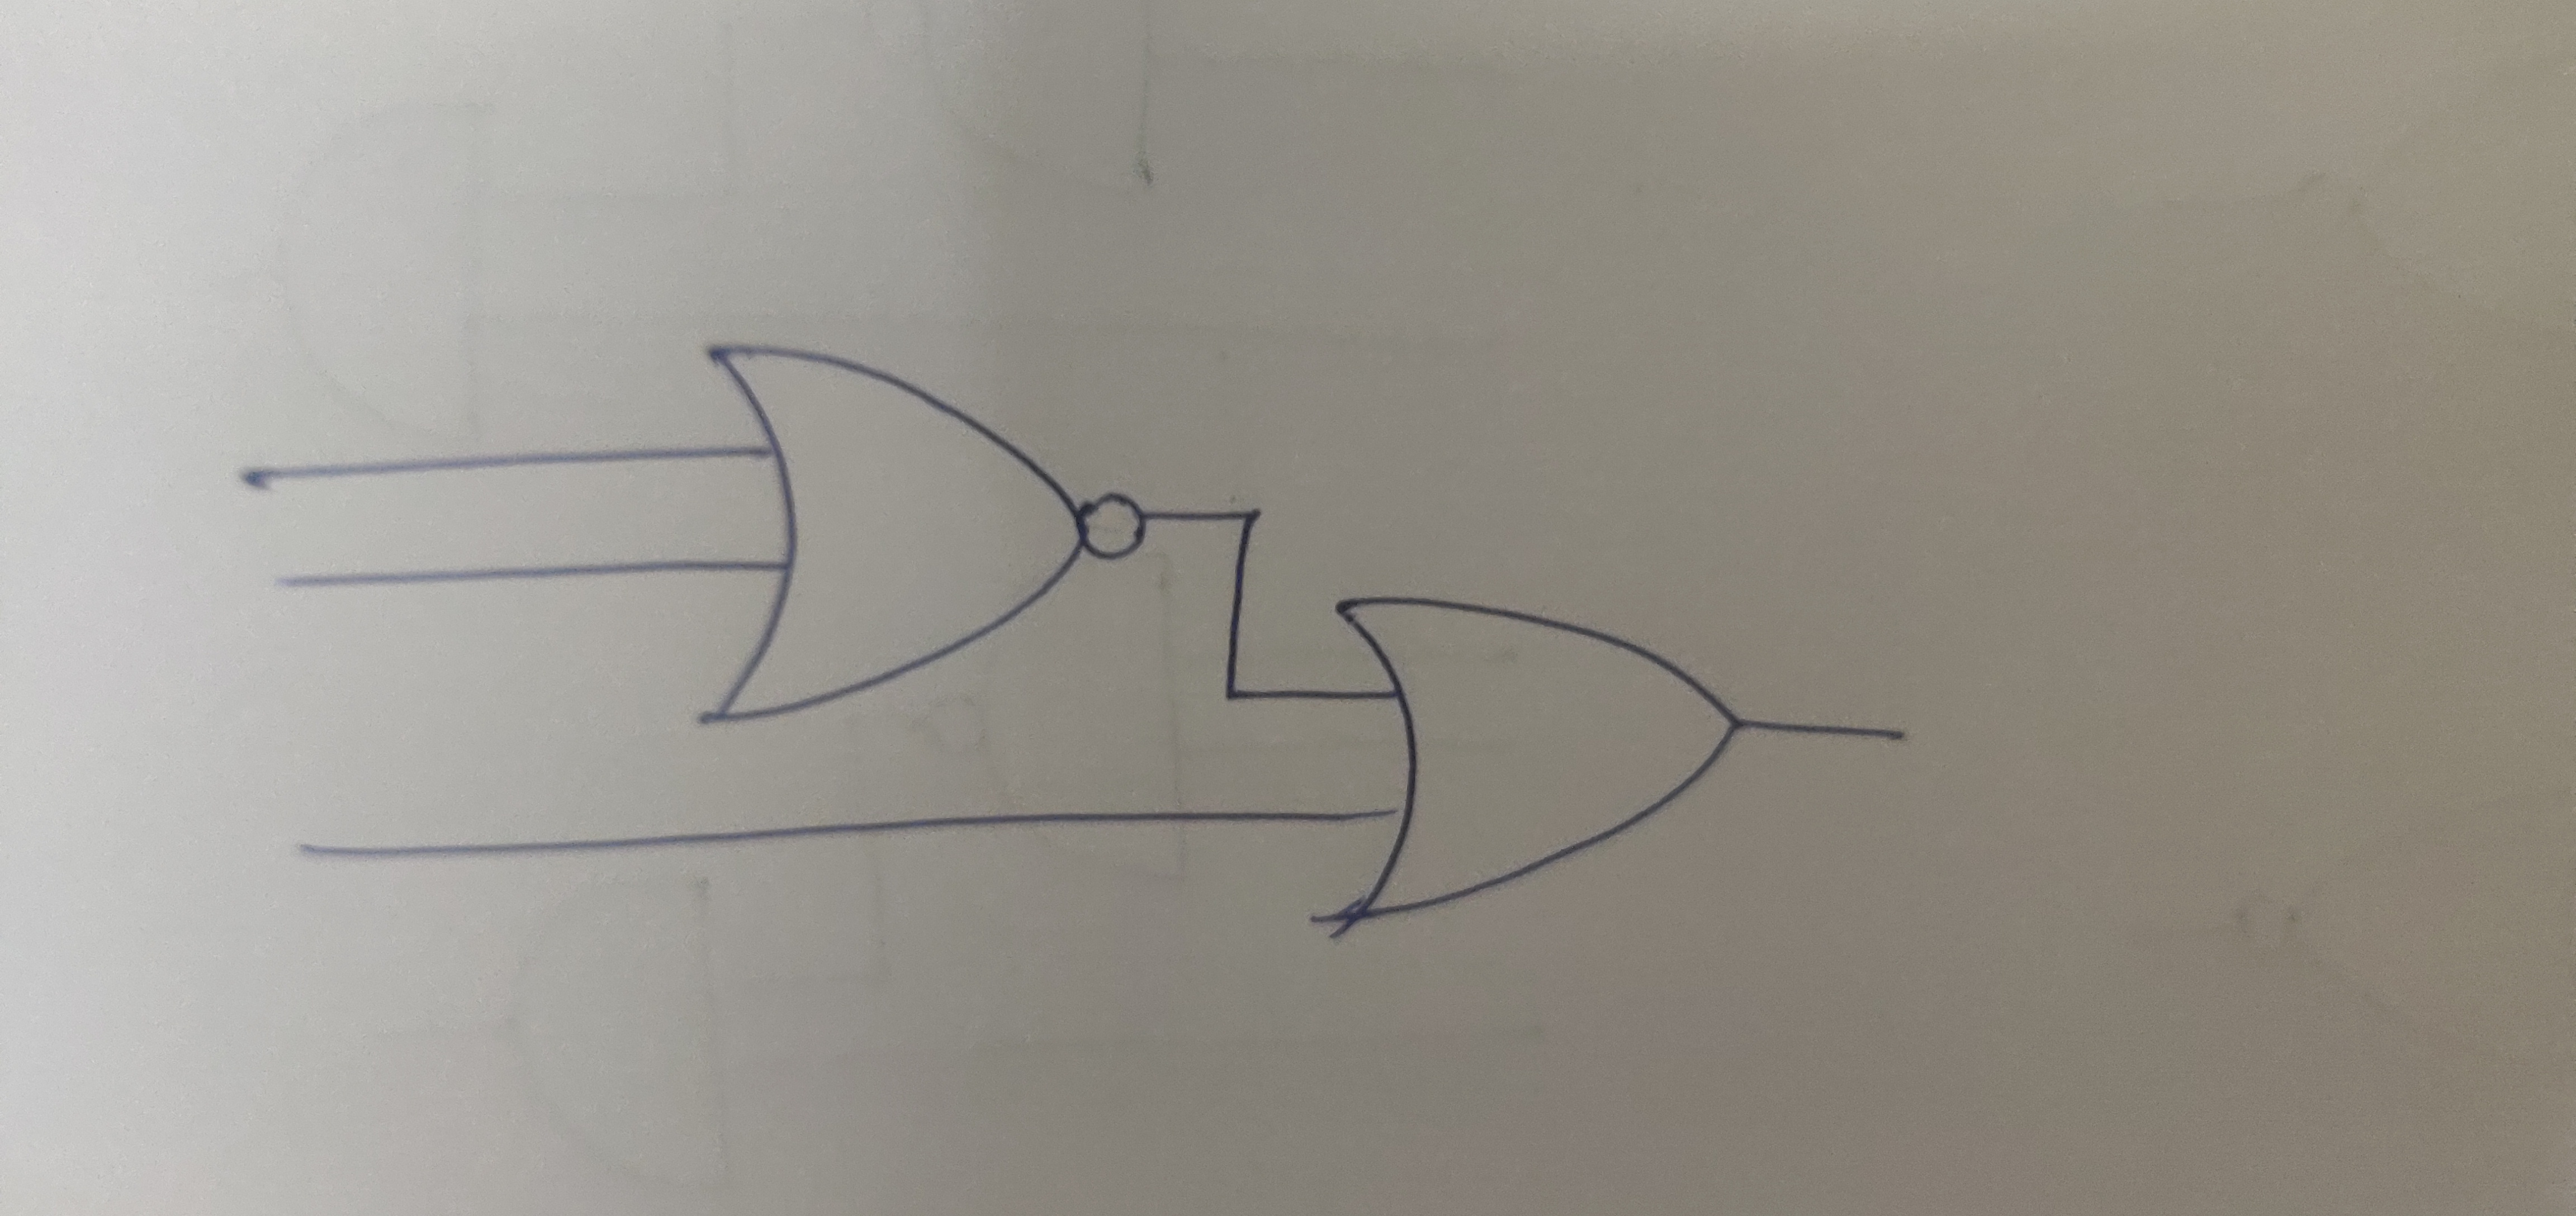not: (1078, 486, 1153, 565)
or: (697, 335, 1088, 726), (1327, 582, 1748, 920)
